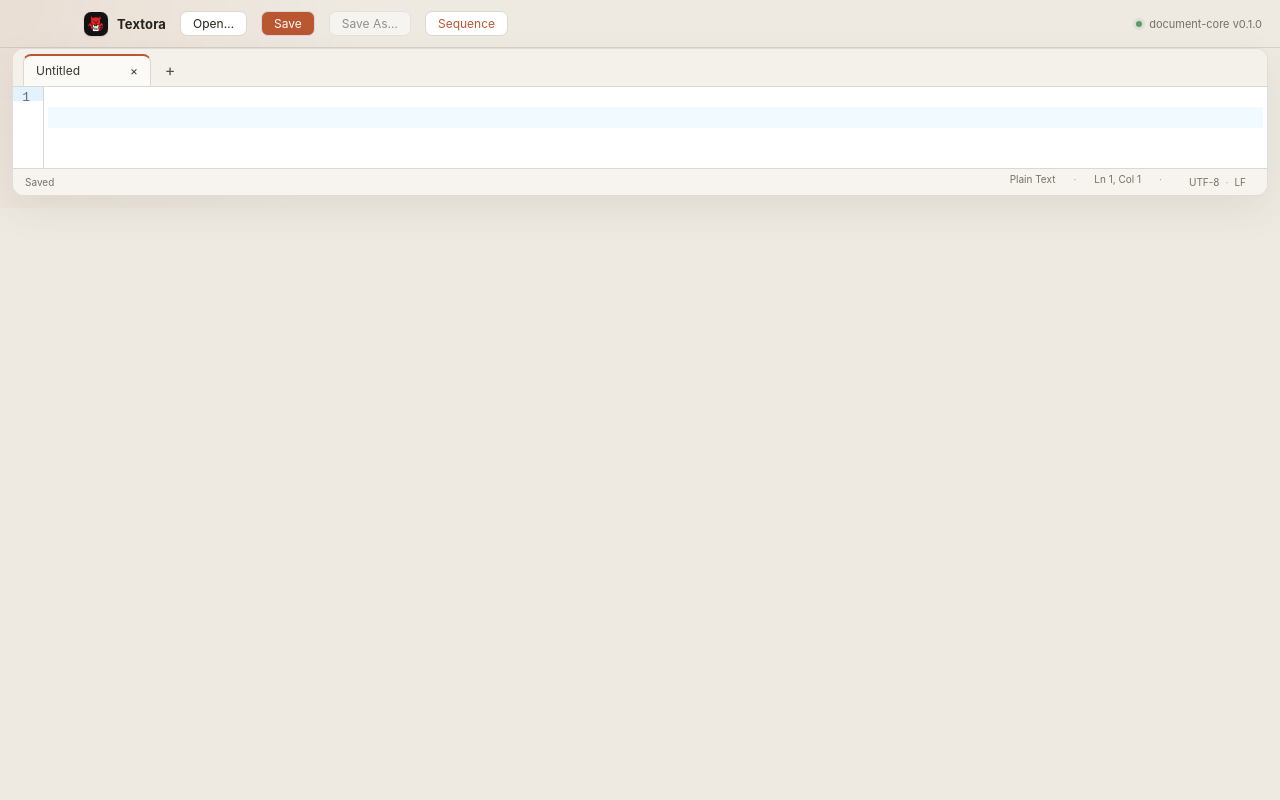
Test: App open flow › routes an external missing event into the missing-file keep flow
Click the button with class "open-button" at {"x": 214, "y": 24}, box left=180, top=11, right=247, bottom=36
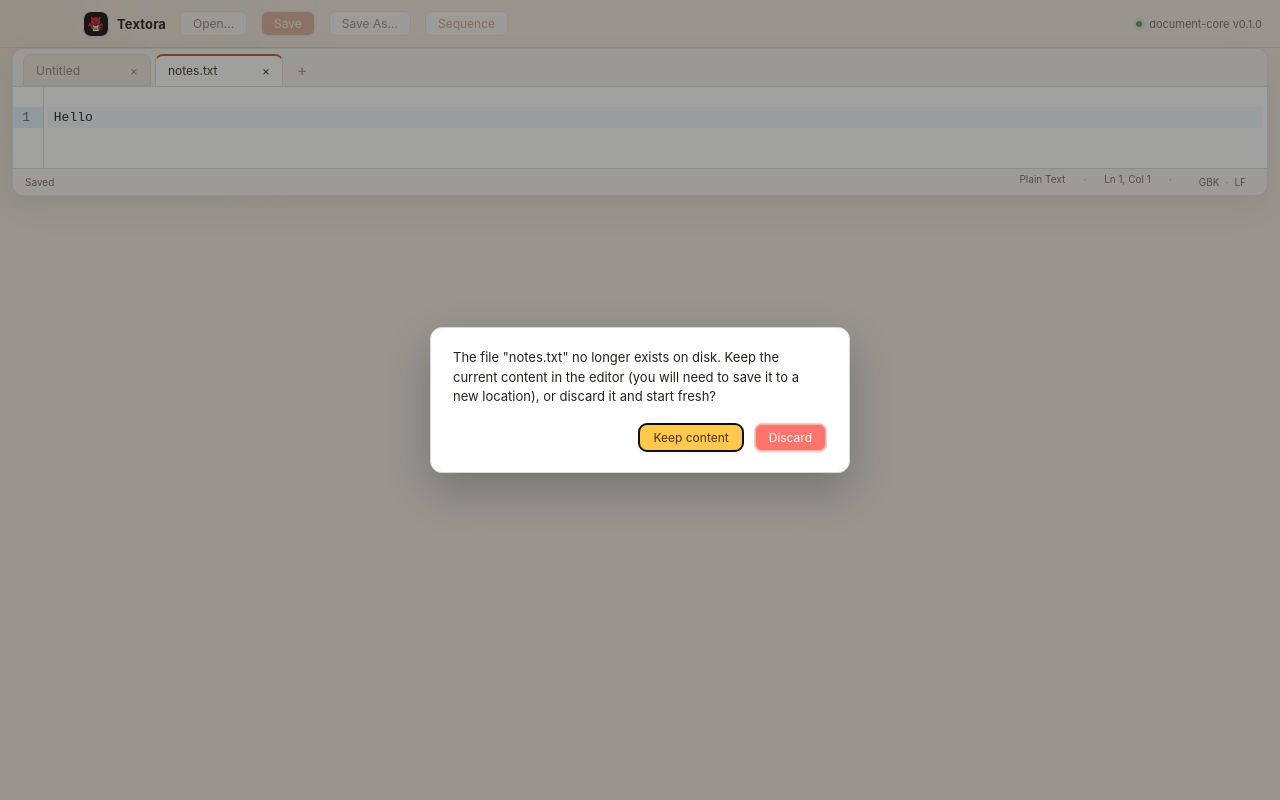
Result: the dialog named "File missing on disk" is shown
Result: the text with class "confirm-message" shows "notes.txt" at left=509, top=349, right=562, bottom=365
Click the button with class "confirm-cancel" at {"x": 691, "y": 437}, box left=638, top=423, right=744, bottom=452
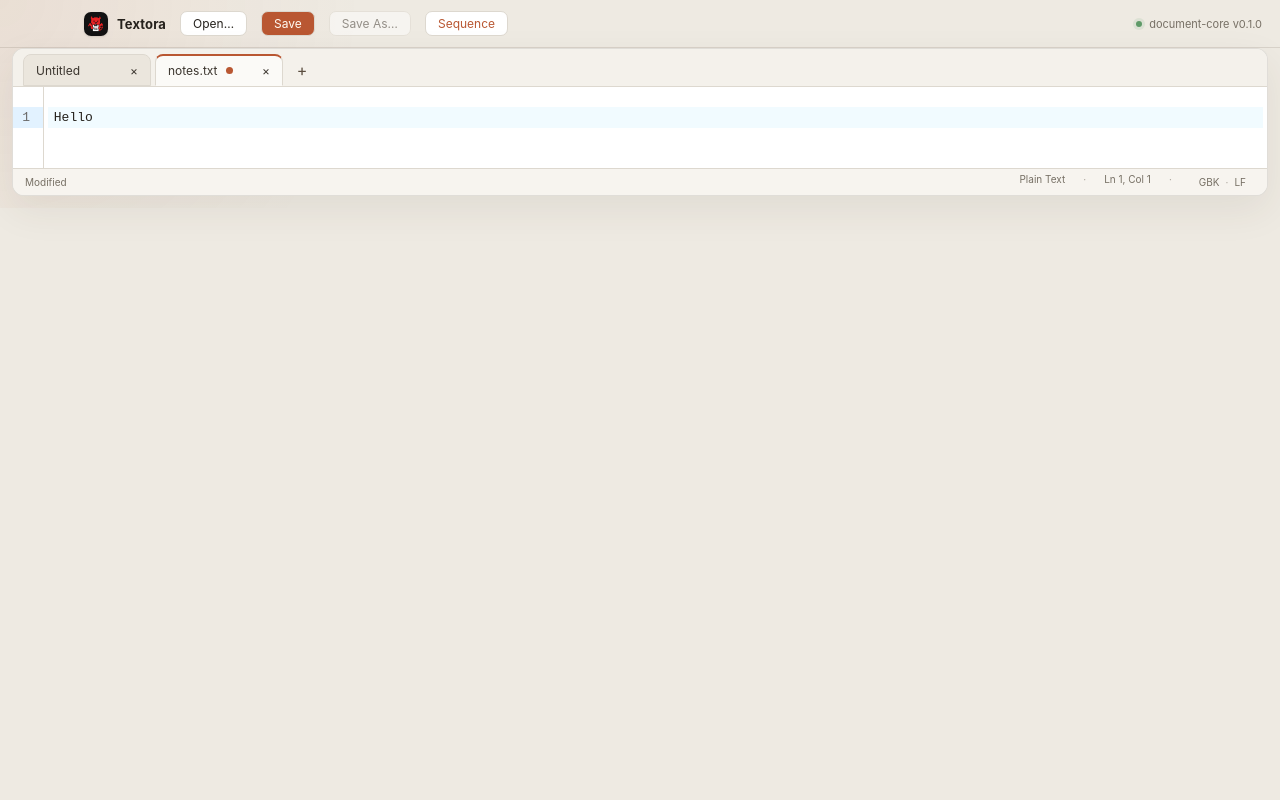
Result: the footer with class "statusbar" shows "Modified" at left=25, top=176, right=67, bottom=188
